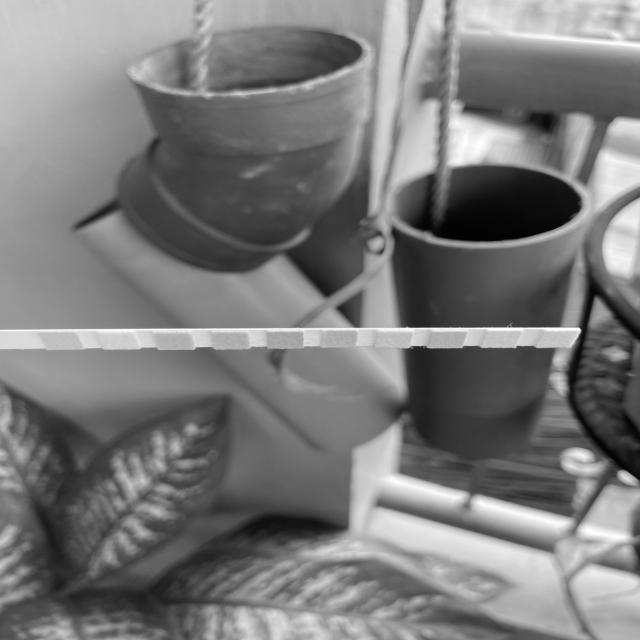Bilirubin: (104, 332, 132, 349)
Blood: (269, 331, 302, 348)
Glucose: (49, 333, 74, 348)
Ketone: (158, 333, 188, 350)
Leukocytes: (547, 332, 570, 347)
Nitrite: (489, 331, 514, 348)
Protein: (376, 332, 408, 347)
SpGravity: (217, 332, 246, 349)
Urobilinogen: (433, 332, 461, 347)
background: (0, 0, 640, 640)
pH: (323, 330, 356, 347)
strip: (1, 328, 580, 349)
